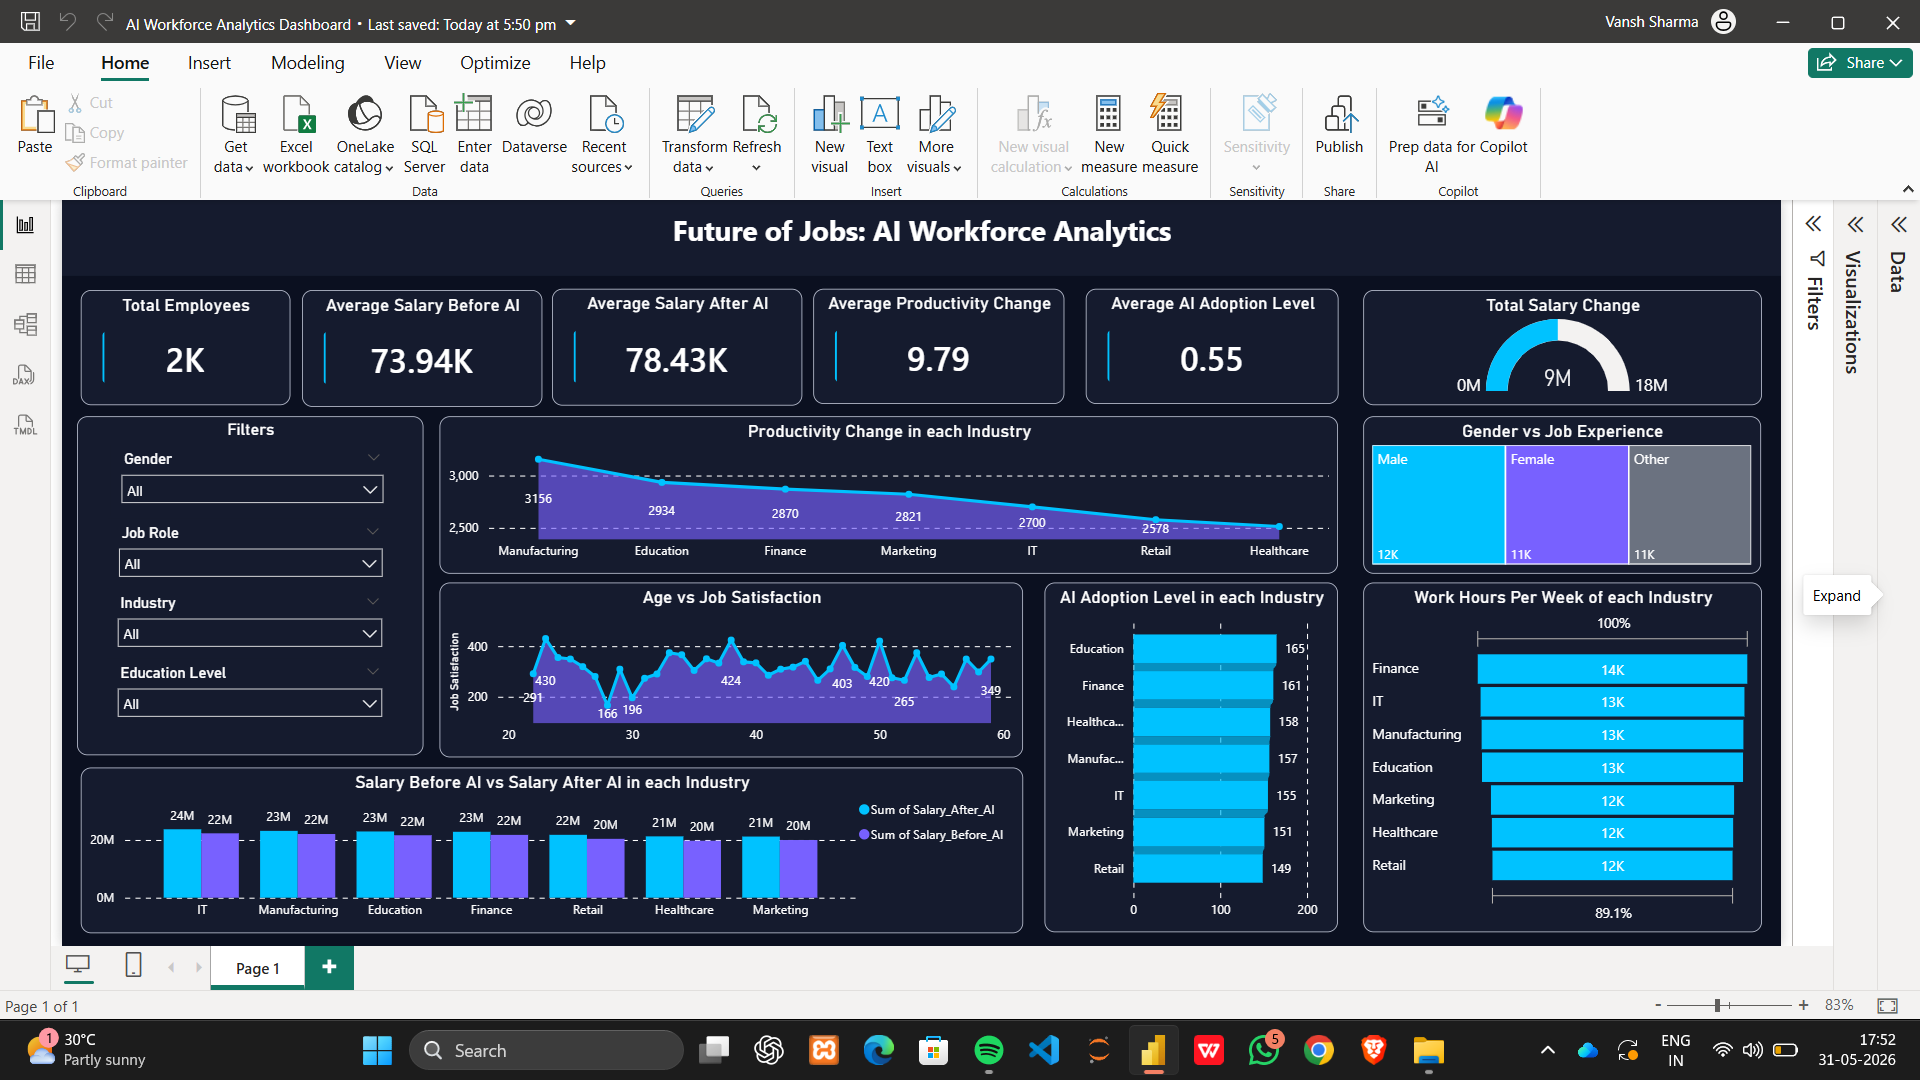

What the dashboard file says about the page in this screenshot:
{"tool":"powerbi","page":{"name":"Page 1","canvas":[1660,720],"ordinal":0},"visuals":[{"type":"shape","box":[0,0,1660.3,73.2],"z":0},{"type":"textbox","box":[576.7,6,506.7,56.7],"z":1000},{"type":"cardVisual","title":"Total Employees","fields":{"Data":["Count(ai_job_impact.Employee_ID)"]},"box":[18.1,87.5,202.1,111.6],"z":2000},{"type":"cardVisual","title":"Average Salary Before AI","fields":{"Data":["Avg(ai_job_impact.Salary_Before_AI)"]},"box":[232.2,87.5,232.2,113.1],"z":3000},{"type":"cardVisual","title":"Average Salary After AI","fields":{"Data":["Avg(ai_job_impact.Salary_After_AI)"]},"box":[473.5,86,241.3,113.1],"z":4000},{"type":"cardVisual","title":"Average Productivity Change","fields":{"Data":["Avg(ai_job_impact.Productivity_Change_%)"]},"box":[725.3,86,242.8,111.6],"z":5000},{"type":"cardVisual","title":"Average AI Adoption Level","fields":{"Data":["Avg(ai_job_impact.AI_Adoption_Level)"]},"box":[987.7,86,244.3,111.6],"z":6000},{"type":"gauge","title":"Total Salary Change","fields":{"Y":["Sum(ai_job_impact.Salary Change)"]},"box":[1256.2,87.5,384.5,111.6],"z":7000},{"type":"stackedAreaChart","title":"Age vs Job Satisfaction","fields":{"Category":["ai_job_impact.Age"],"Y":["Sum(ai_job_impact.Job_Satisfaction)"]},"box":[364.3,369.2,563.4,168.9],"z":8000},{"type":"treemap","title":"Gender vs Job Experience","fields":{"Group":["ai_job_impact.Gender"],"Values":["Sum(ai_job_impact.Years_Experience)"]},"box":[1255.9,208.7,383.6,152],"z":9000},{"type":"clusteredColumnChart","title":"Salary Before AI vs Salary After AI in each Industry","fields":{"Category":["ai_job_impact.Industry"],"Y":["Sum(ai_job_impact.Salary_After_AI)","Sum(ai_job_impact.Salary_Before_AI)"]},"box":[18.1,547.4,909.3,159.8],"z":10000},{"type":"funnel","title":"Work Hours Per Week of each Industry","fields":{"Category":["ai_job_impact.Industry"],"Y":["Sum(ai_job_impact.Work_Hours_Per_Week)"]},"box":[1255.9,369.2,384.9,337.8],"z":11000},{"type":"barChart","title":"AI Adoption Level in each Industry","fields":{"Category":["ai_job_impact.Industry"],"Y":["Sum(ai_job_impact.AI_Adoption_Level)"]},"box":[948.3,369.2,283.5,337.8],"z":12000},{"type":"shape","title":"Filters","box":[14.5,208.7,334.2,326.9],"z":13000},{"type":"slicer","fields":{"Values":["ai_job_impact.Industry"]},"box":[43.7,375.5,276,67.9],"z":14000},{"type":"slicer","fields":{"Values":["ai_job_impact.Gender"]},"box":[46.7,236.8,272.9,67.9],"z":15000},{"type":"slicer","fields":{"Values":["ai_job_impact.Job_Role"]},"box":[45.2,307.6,274.5,67.9],"z":16000},{"type":"slicer","fields":{"Values":["ai_job_impact.Education_Level"]},"box":[43.7,443.4,276,67.9],"z":17000},{"type":"stackedAreaChart","title":"Productivity Change in each Industry","fields":{"Category":["ai_job_impact.Industry"],"Y":["Sum(ai_job_impact.Productivity_Change_%)"]},"box":[364.3,208.7,867.4,152],"z":18000}]}

Visuals, with their boxes on the page's 1660x720 design canvas (x1, y1, x2, y2). These are canvas units, not pixel positions in the 1920x1080 screenshot, which may show the page scaled, cropped or inside an application window:
shape: (left=0, top=0, right=1660, bottom=73)
textbox: (left=577, top=6, right=1083, bottom=63)
"Total Employees" cardVisual: (left=18, top=88, right=220, bottom=199)
"Average Salary Before AI" cardVisual: (left=232, top=88, right=464, bottom=201)
"Average Salary After AI" cardVisual: (left=474, top=86, right=715, bottom=199)
"Average Productivity Change" cardVisual: (left=725, top=86, right=968, bottom=198)
"Average AI Adoption Level" cardVisual: (left=988, top=86, right=1232, bottom=198)
"Total Salary Change" gauge: (left=1256, top=88, right=1641, bottom=199)
"Age vs Job Satisfaction" stackedAreaChart: (left=364, top=369, right=928, bottom=538)
"Gender vs Job Experience" treemap: (left=1256, top=209, right=1640, bottom=361)
"Salary Before AI vs Salary After AI in each Industry" clusteredColumnChart: (left=18, top=547, right=927, bottom=707)
"Work Hours Per Week of each Industry" funnel: (left=1256, top=369, right=1641, bottom=707)
"AI Adoption Level in each Industry" barChart: (left=948, top=369, right=1232, bottom=707)
"Filters" shape: (left=14, top=209, right=349, bottom=536)
slicer - ai_job_impact.Industry: (left=44, top=376, right=320, bottom=443)
slicer - ai_job_impact.Gender: (left=47, top=237, right=320, bottom=305)
slicer - ai_job_impact.Job_Role: (left=45, top=308, right=320, bottom=376)
slicer - ai_job_impact.Education_Level: (left=44, top=443, right=320, bottom=511)
"Productivity Change in each Industry" stackedAreaChart: (left=364, top=209, right=1232, bottom=361)
